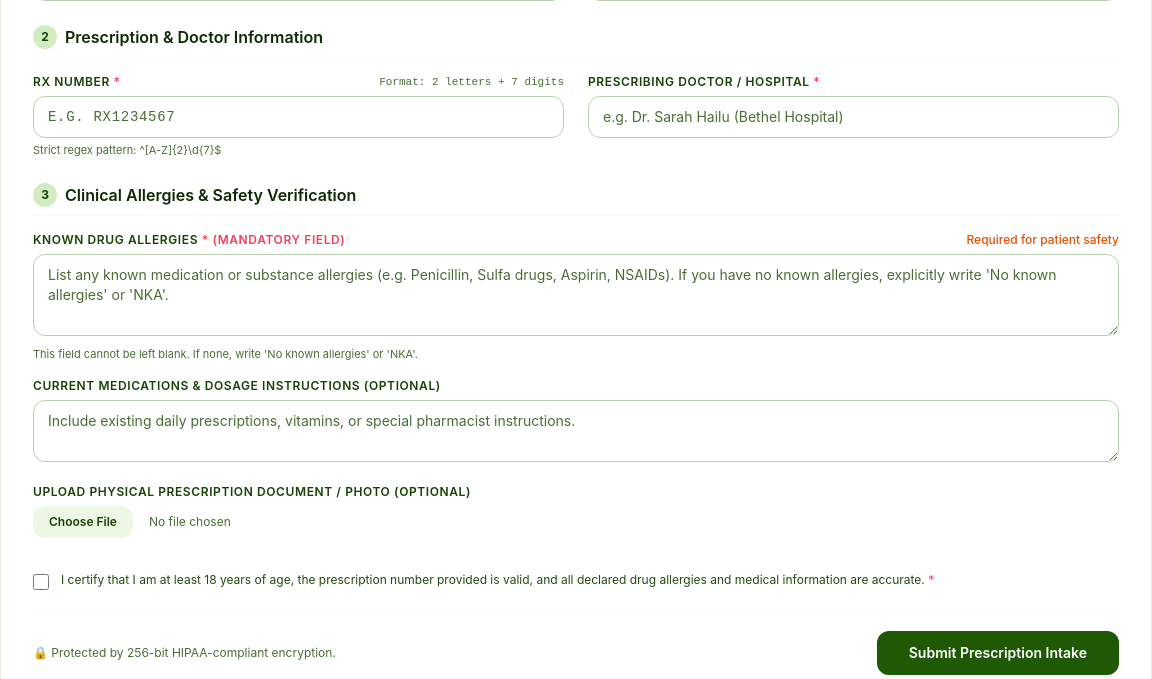
Test: PrescriptionIntakeForm - Strict Front-End Validation › Known Drug Allergies Validation (Mandatory Field) › shows mandatory field error when allergies textarea is empty upon submission
(page scrolled)
What coordinates should you click on to do the following:
click the button "Submit Prescription Intake"
I would click on:
 (998, 653)
Its box is [877,631,1119,675].
(page scrolled)
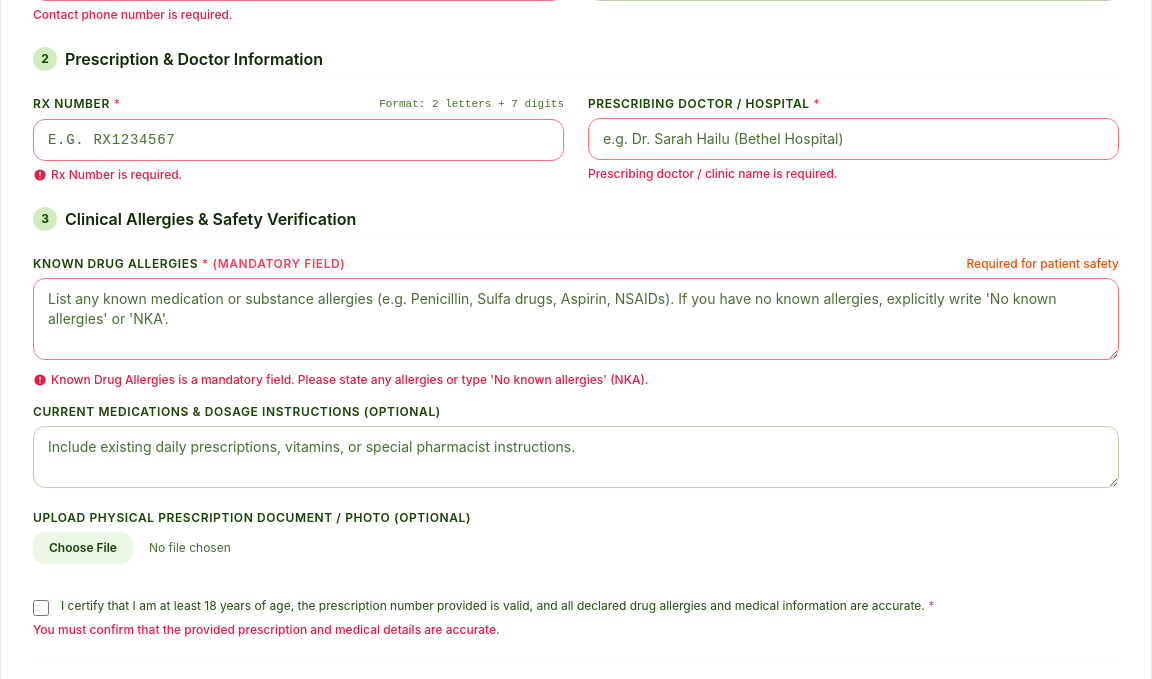
Result: the text "Known Drug Allergies is a mandatory field" is shown at [51,372,648,386]
